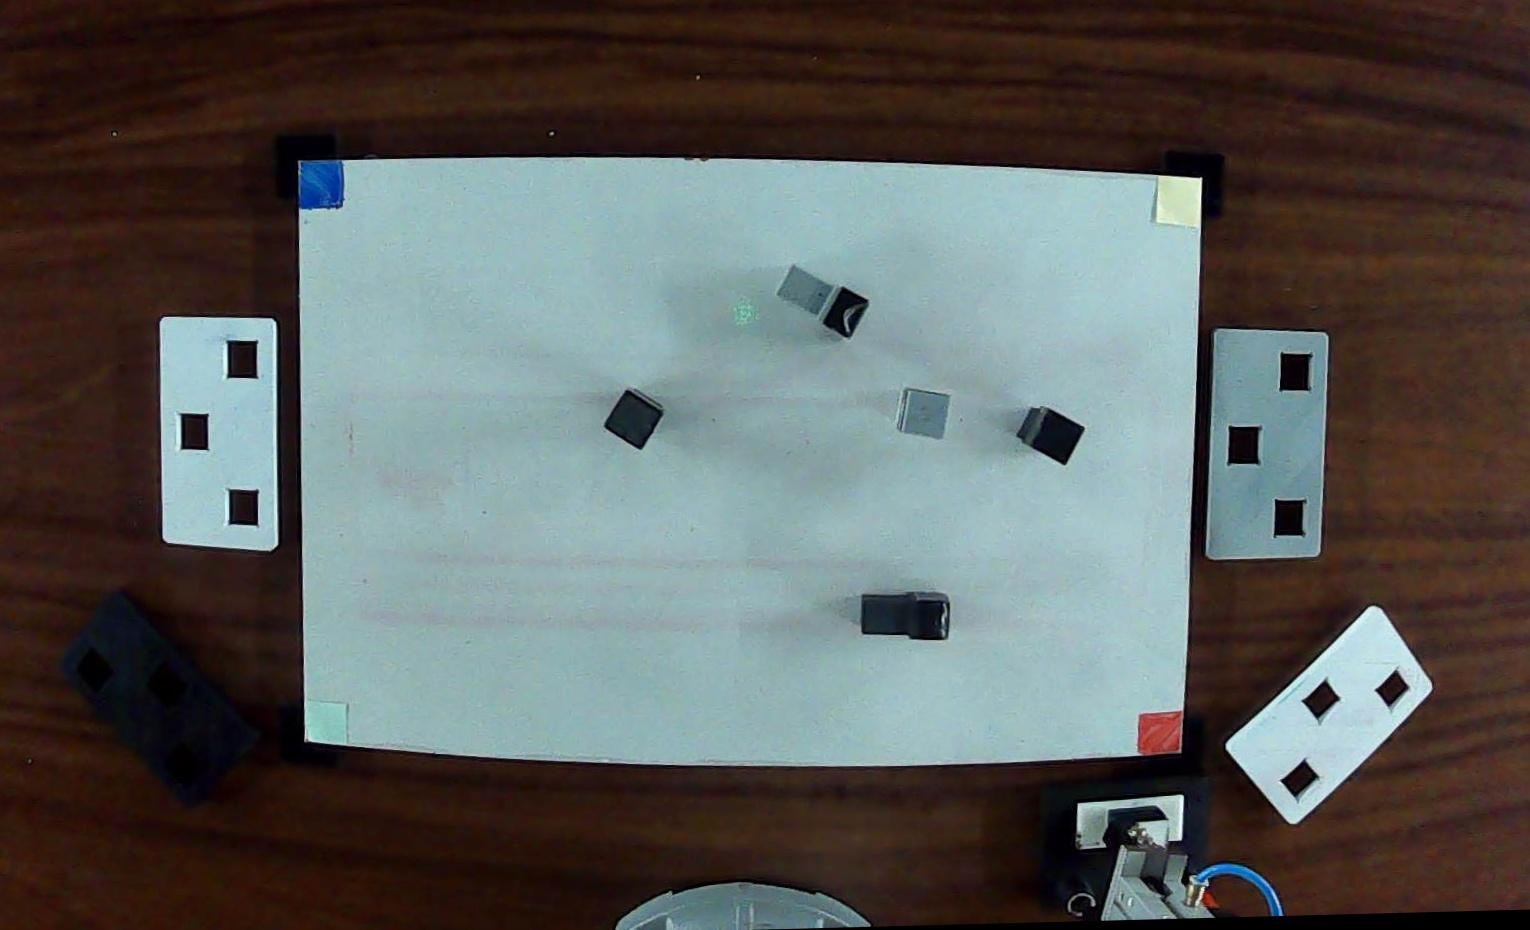pecaCinza: (895, 381, 958, 442)
pecaCinzaCaida: (761, 257, 880, 353)
pecaPreta: (1019, 397, 1092, 471), (600, 386, 666, 455)
pecaPretaCaida: (851, 586, 957, 647)
